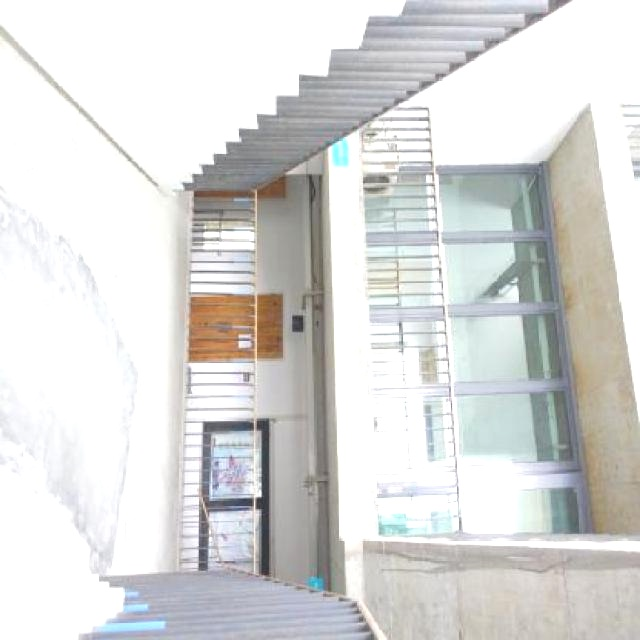stair: (155, 3, 406, 200)
